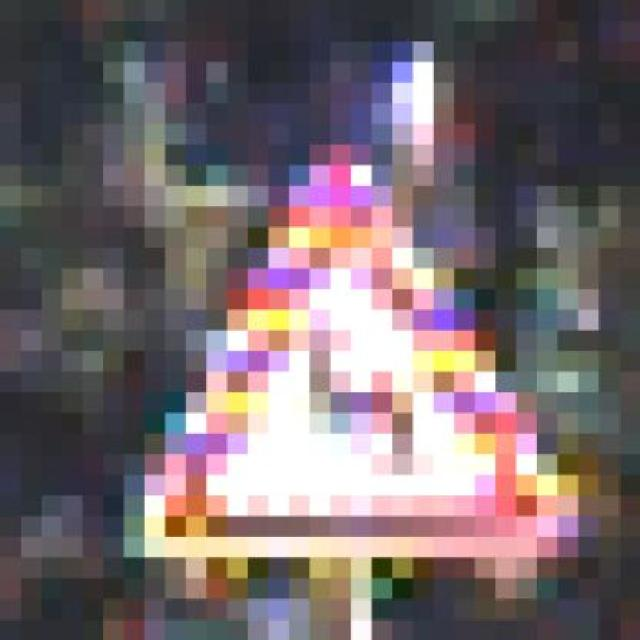Left Zig Zag Traffic: (82, 124, 578, 578)
